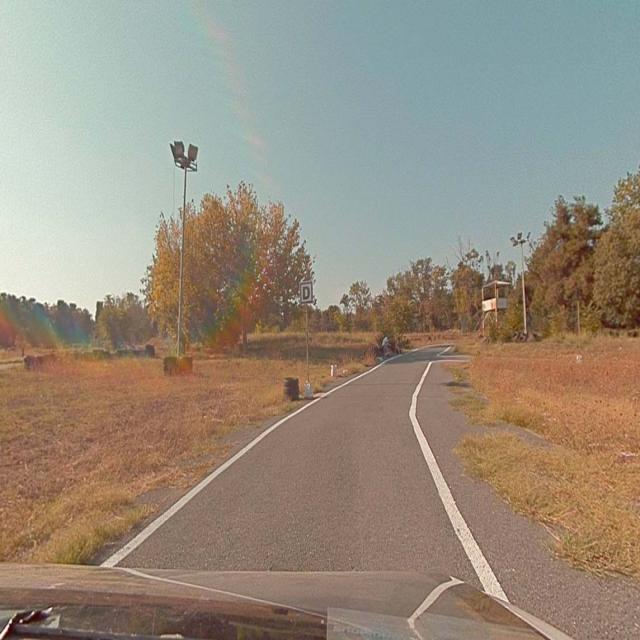durak: (300, 283, 312, 302)
